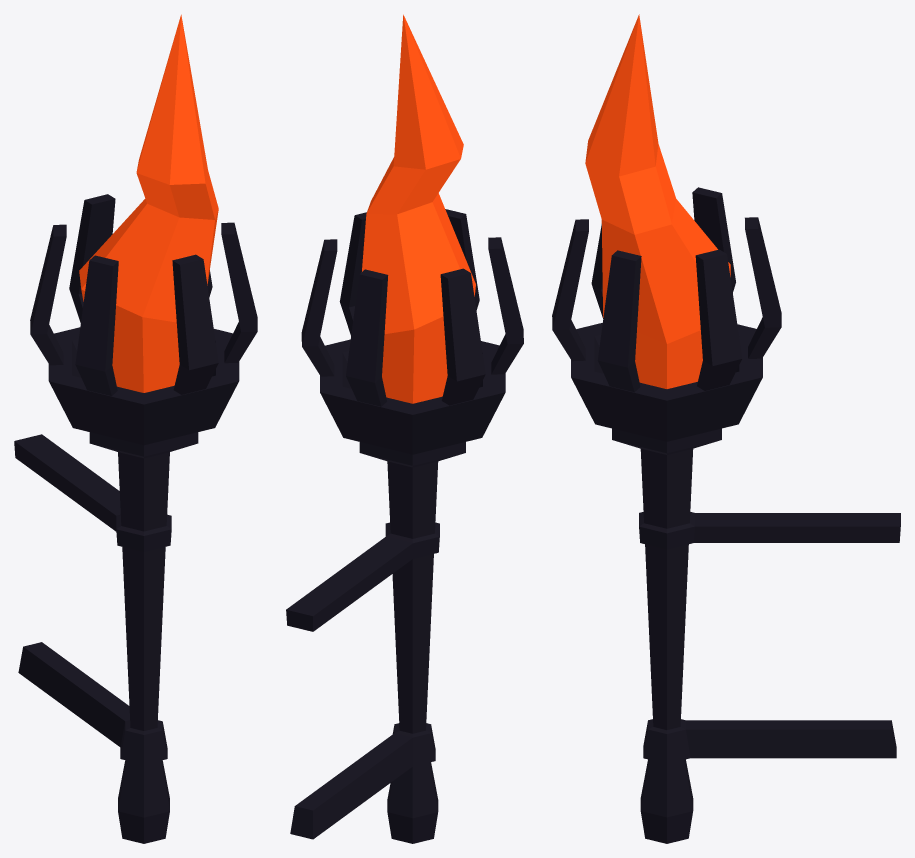
File: Torch.glb
The picture shows the model from 3 angles, left to right: view 1: azimuth 30°, elevation 25°; view 2: azimuth 150°, elevation 25°; view 3: azimuth 270°, elevation 25°; orthographic projection. The views are drawn at different scales.
Visible parts, largest first — view 1: Torch; view 2: Torch; view 3: Torch.
Boxes of the visible parts, x1,y1,x2,y2 form: Torch: (14,14,257,843); Torch: (286,14,523,843); Torch: (552,14,900,843).
Size of the model in its own units: 27.83 by 115 by 43.76.
